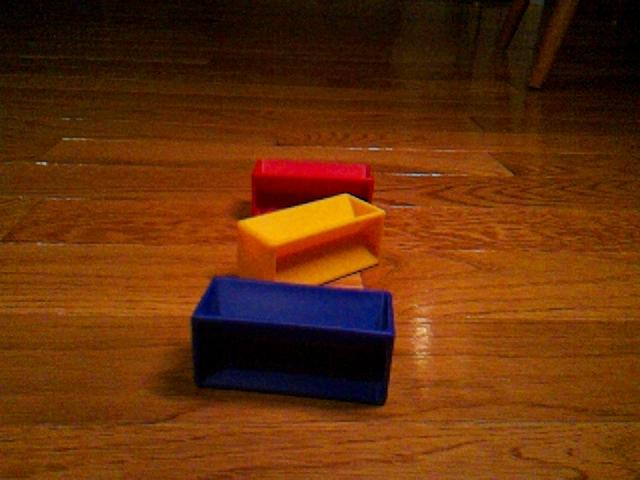blue: (190, 273, 397, 407)
red: (250, 156, 376, 216)
yellow: (235, 192, 387, 286)
